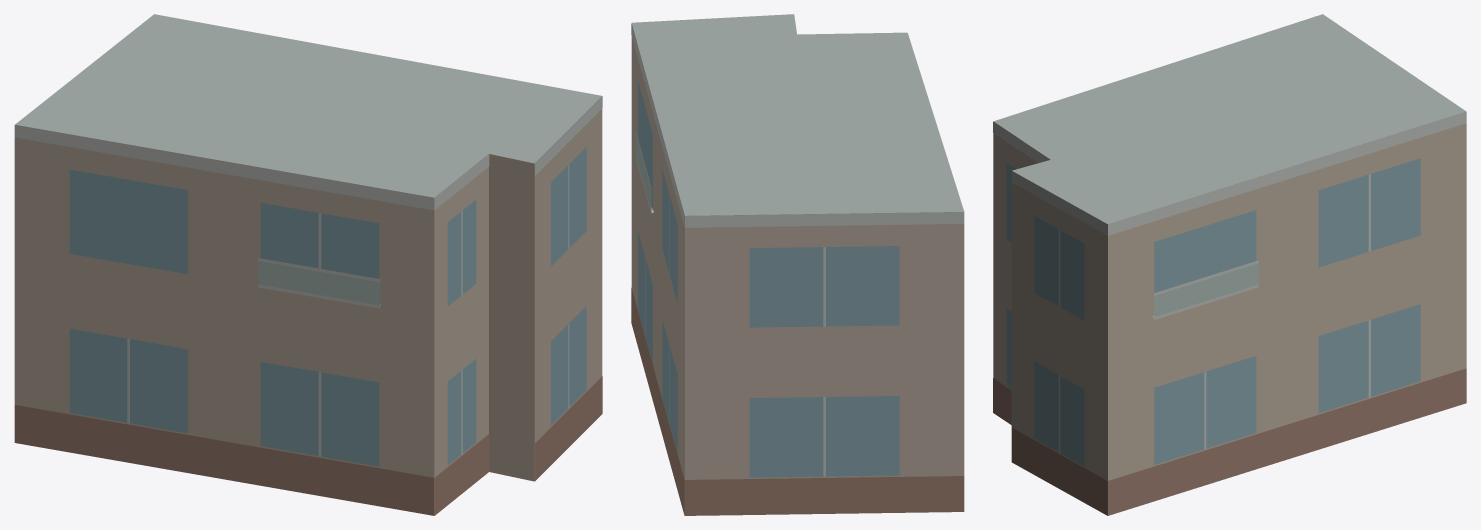
File: survey-upis-32766254.glb
3 views of the same model, side by side, from view 1: azimuth 30°, elevation 25°; view 2: azimuth 150°, elevation 25°; view 3: azimuth 270°, elevation 25° (orthographic). The views are drawn at different scales.
Visible parts, largest first — view 1: survey-upis-32766254.tmp; view 2: survey-upis-32766254.tmp; view 3: survey-upis-32766254.tmp.
Part boxes in pixels (x1=…): survey-upis-32766254.tmp: x1=14, y1=14, x2=602, y2=515; survey-upis-32766254.tmp: x1=631, y1=14, x2=964, y2=515; survey-upis-32766254.tmp: x1=993, y1=14, x2=1466, y2=515.
Bounding box in the file's own units: 9.44 × 6.1 × 8.99.
